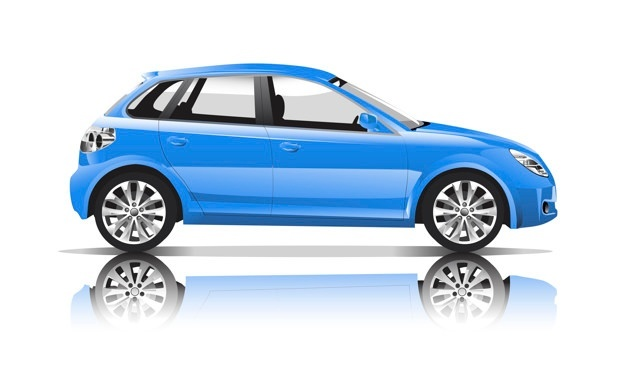audi: (62, 52, 569, 254)
